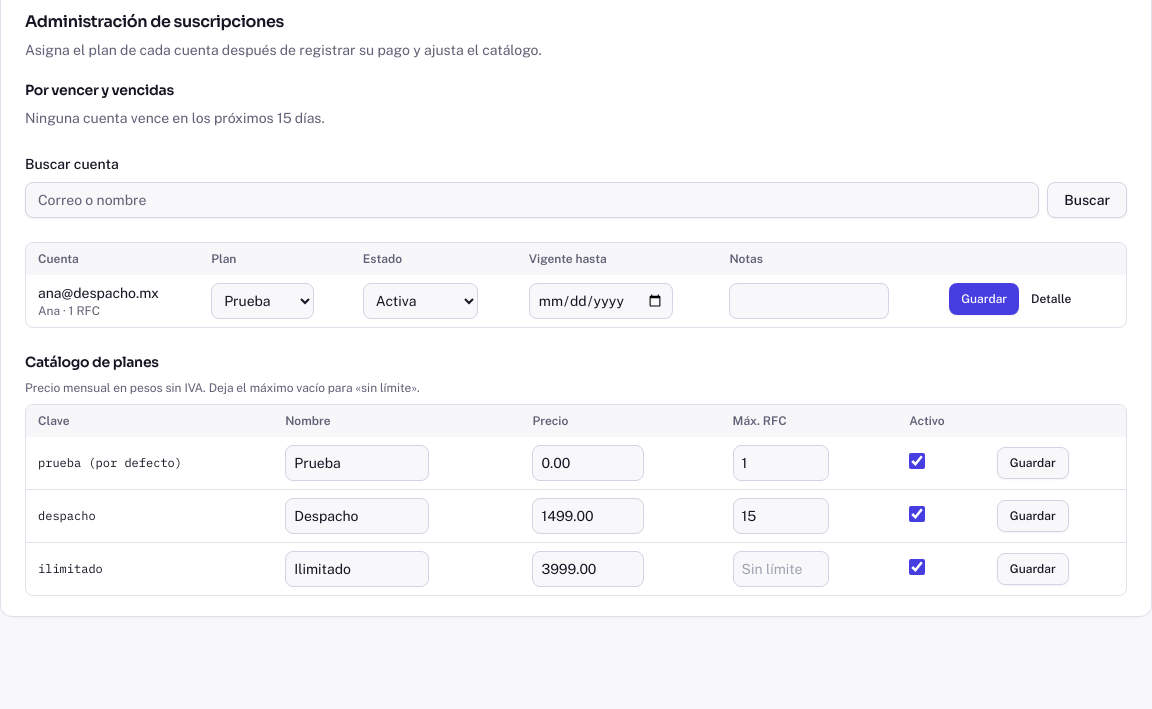
Test: AdminSuscripciones › avisa antes de pagar una suscripción sin vencimiento
Step 1. Click the button with aria-label "Detalle de ana@despacho.mx" → (1051, 299), box [1019, 283, 1083, 315]
(page scrolled)
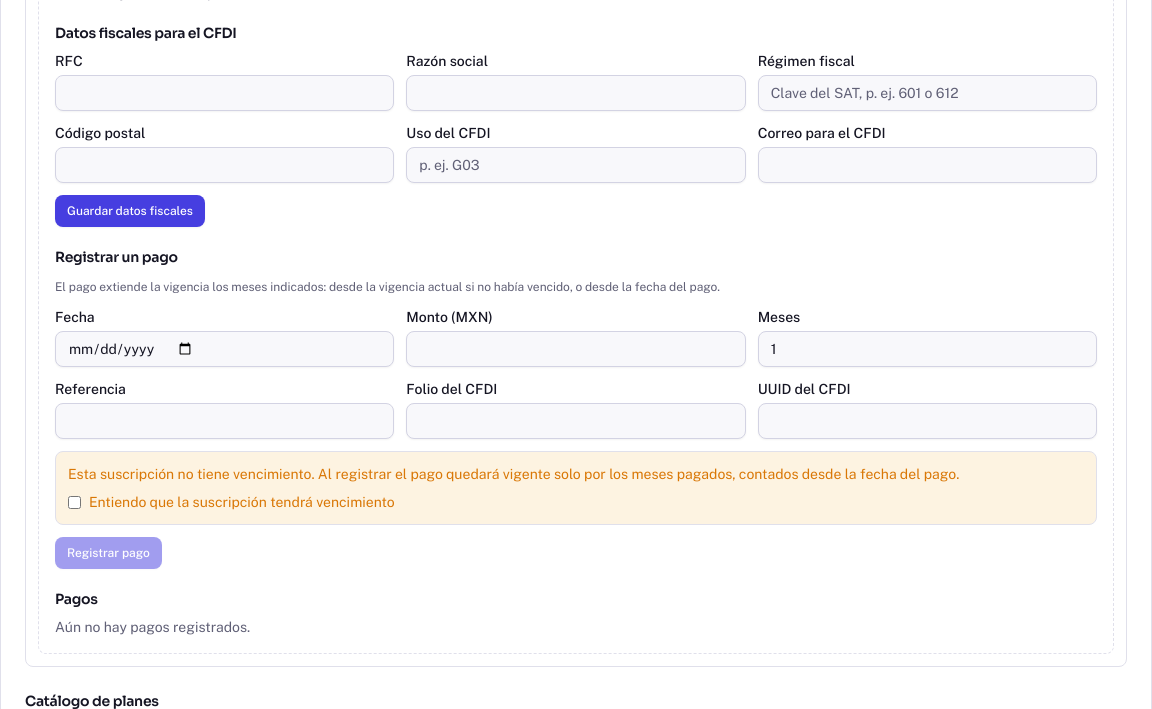
Now the text "no tiene vencimiento" is shown, box [68, 466, 959, 482]
Step 2. Type "2026-10-01" into the date field labelled "Fecha" → (225, 349), box [55, 331, 394, 367]
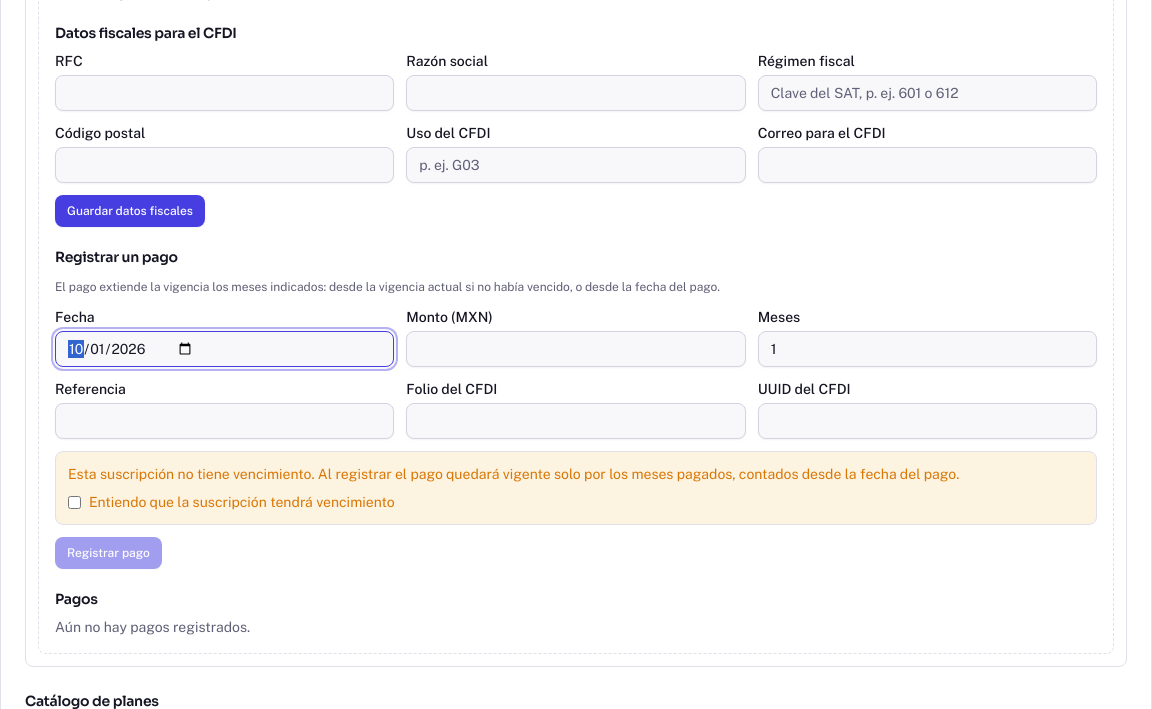
Step 3. Type "499" into the field labelled "Monto (MXN)" → (576, 349), box [406, 331, 746, 367]
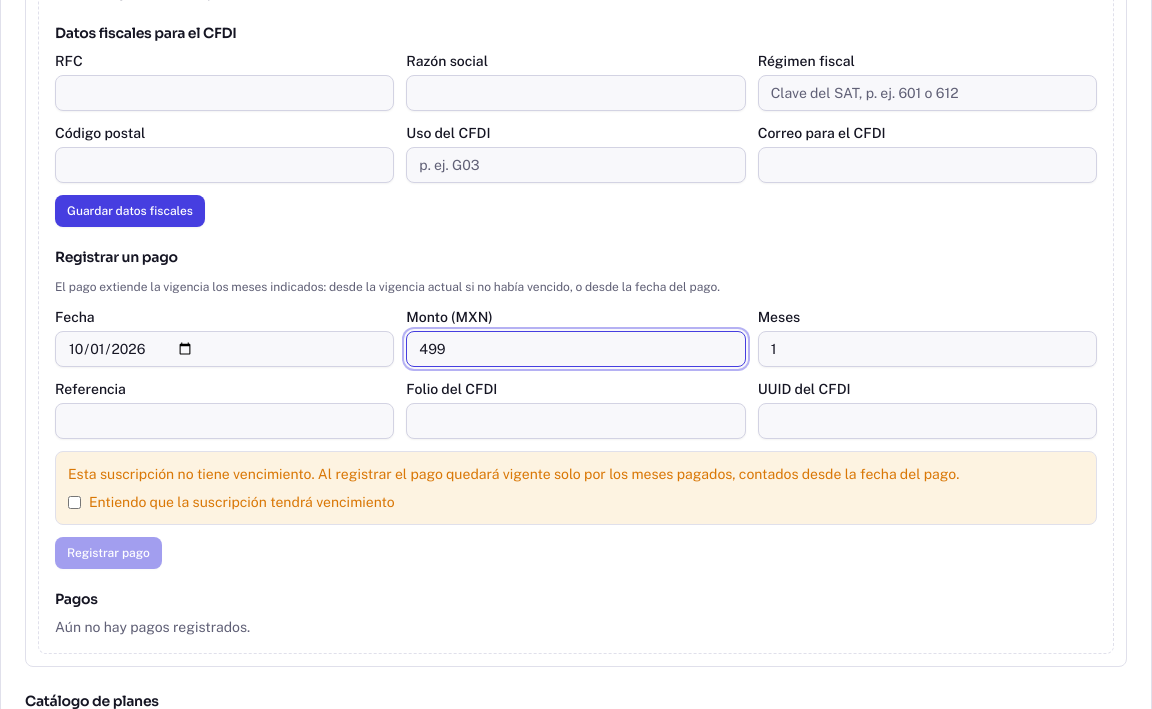
Now the button "Registrar pago" is disabled, box [55, 537, 162, 569]
Step 4. Click the checkbox labelled "Entiendo que la suscripción tendrá vencimiento" → (74, 502), box [68, 496, 81, 508]
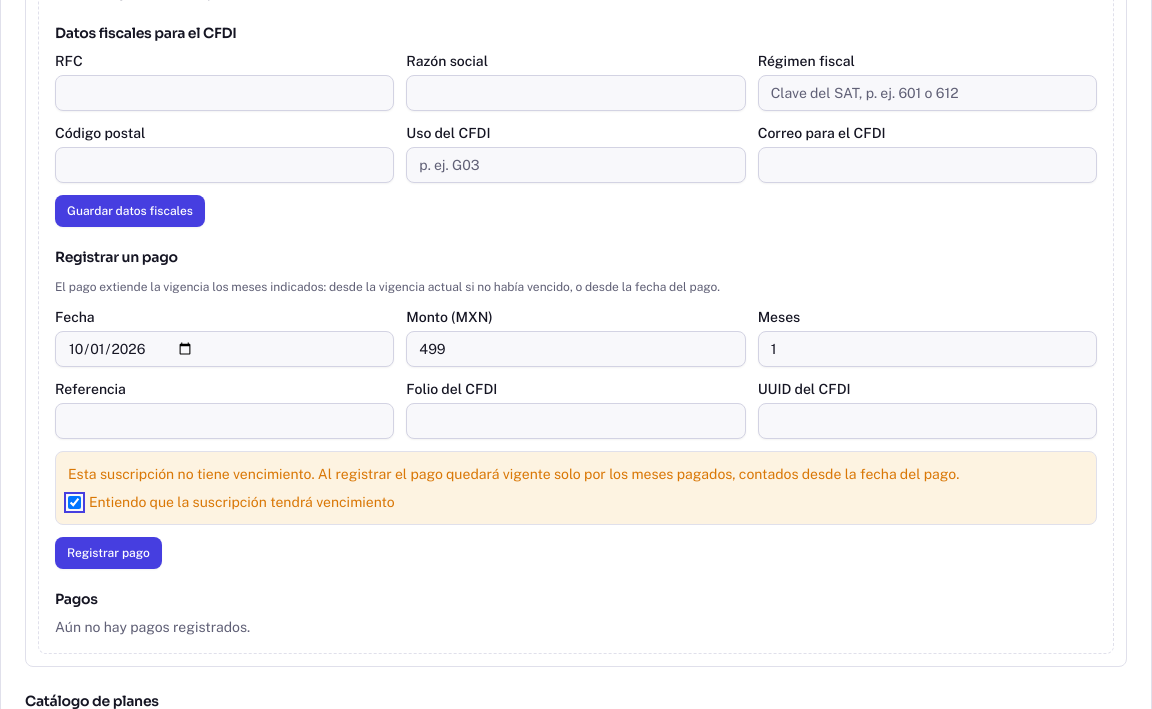
Now the button "Registrar pago" is enabled, box [55, 537, 162, 569]
